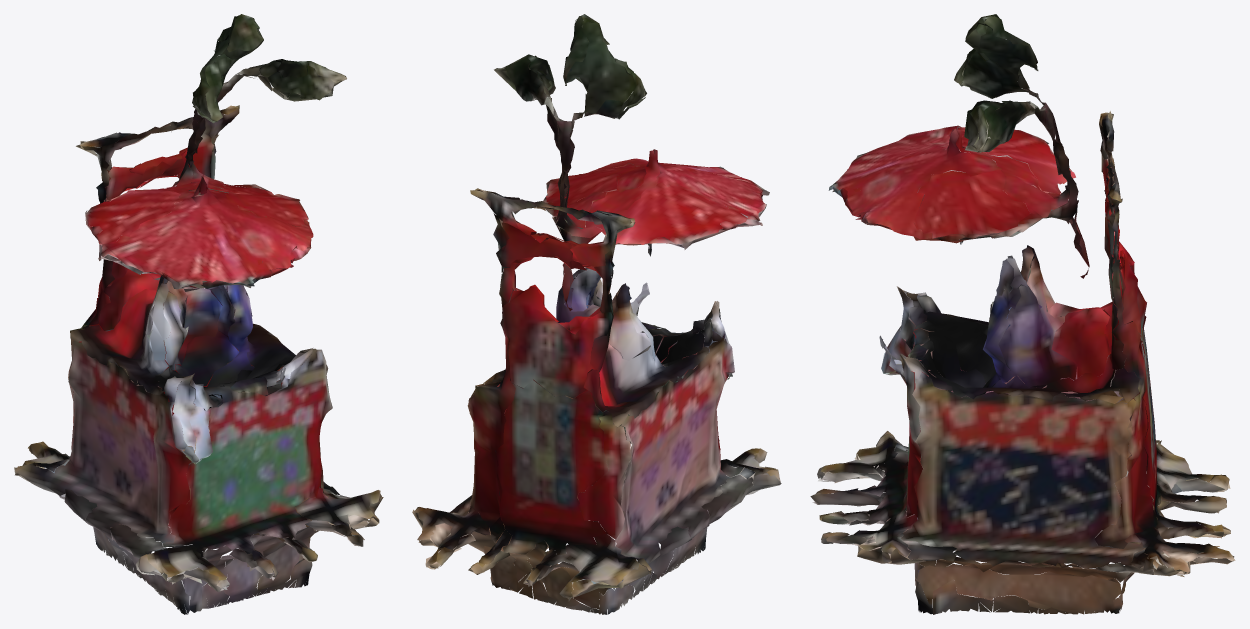
File: 白楽天山.glb
The picture shows the model from 3 angles, left to right: view 1: azimuth 30°, elevation 25°; view 2: azimuth 150°, elevation 25°; view 3: azimuth 270°, elevation 25°; orthographic projection. The views are drawn at different scales.
Visible parts, largest first — view 1: mesh; view 2: mesh; view 3: mesh.
Boxes of the visible parts, box(x1,y1,x2,y2) form: mesh: box(14, 14, 383, 614); mesh: box(412, 14, 781, 614); mesh: box(810, 14, 1235, 614).
Bounding box in the file's own units: 4.31 × 8.62 × 5.72.
Materials: 1 (1 with a texture image).
